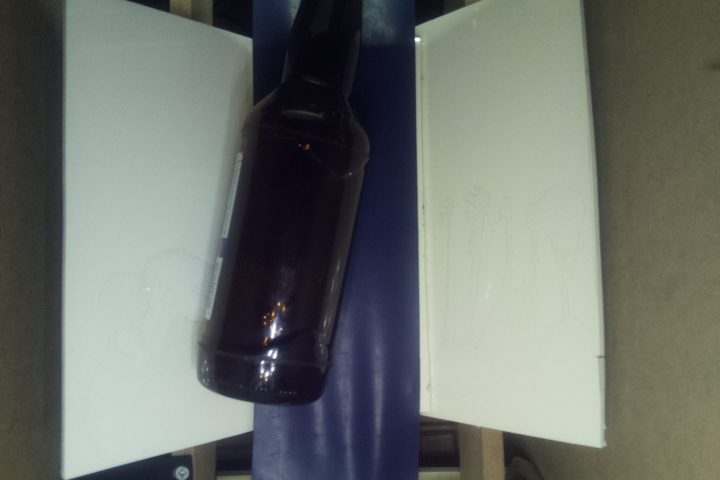makju: (192, 1, 375, 408)
